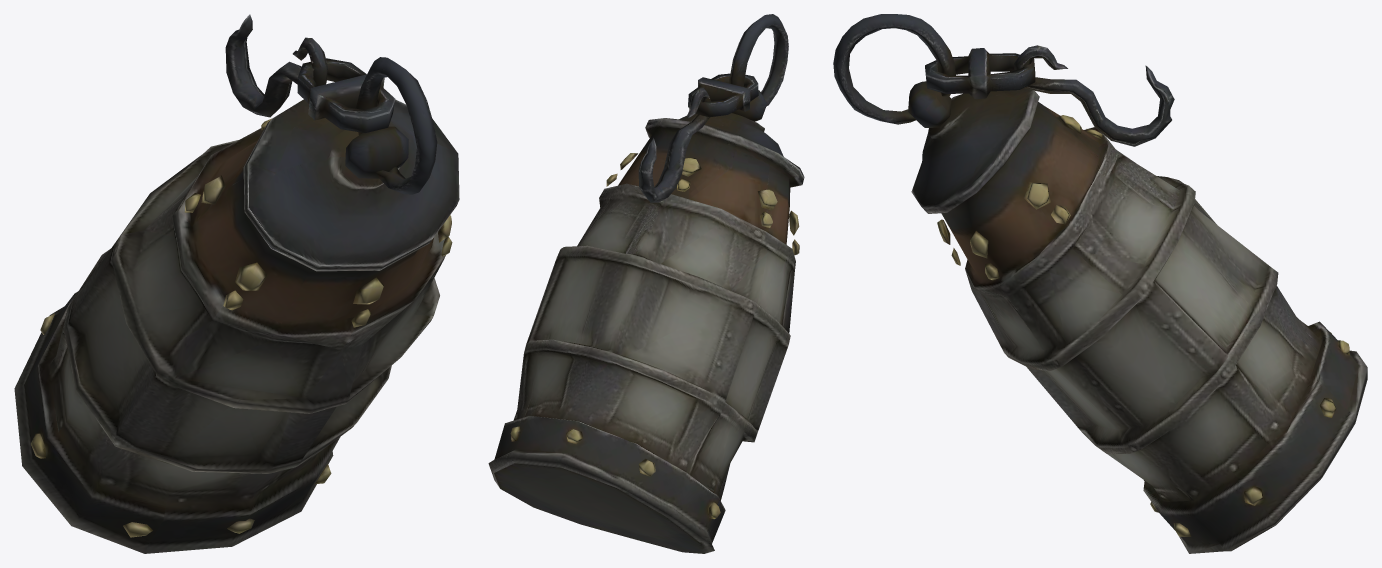
Rendered from gear_warden_lantern.glb.
3 views of the same model, side by side, from view 1: azimuth 30°, elevation 25°; view 2: azimuth 150°, elevation 25°; view 3: azimuth 270°, elevation 25° (orthographic). The views are drawn at different scales.
Visible parts, largest first — view 1: tripo_node_e9c59d6d-bc97-46a2-8847-ec2c09d78972; view 2: tripo_node_e9c59d6d-bc97-46a2-8847-ec2c09d78972; view 3: tripo_node_e9c59d6d-bc97-46a2-8847-ec2c09d78972.
Part boxes in pixels (bbox=[...]): tripo_node_e9c59d6d-bc97-46a2-8847-ec2c09d78972: bbox=[14, 14, 459, 553]; tripo_node_e9c59d6d-bc97-46a2-8847-ec2c09d78972: bbox=[488, 14, 804, 553]; tripo_node_e9c59d6d-bc97-46a2-8847-ec2c09d78972: bbox=[833, 14, 1367, 553].
Size of the model in its own units: 0.5215 by 0.998 by 0.9355.
1 material, 1 textured.
